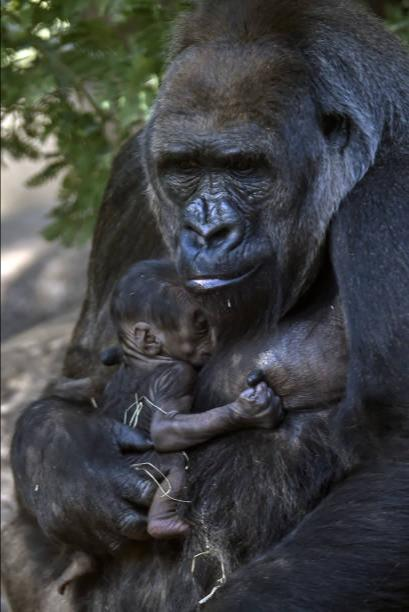gorille_Autres: (15, 0, 407, 345)
